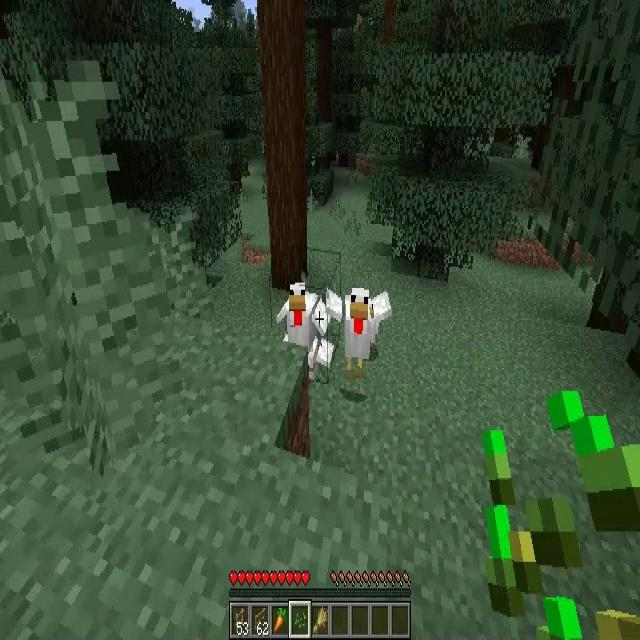duck: (345, 286, 390, 367), (277, 282, 324, 345), (308, 337, 332, 380)
